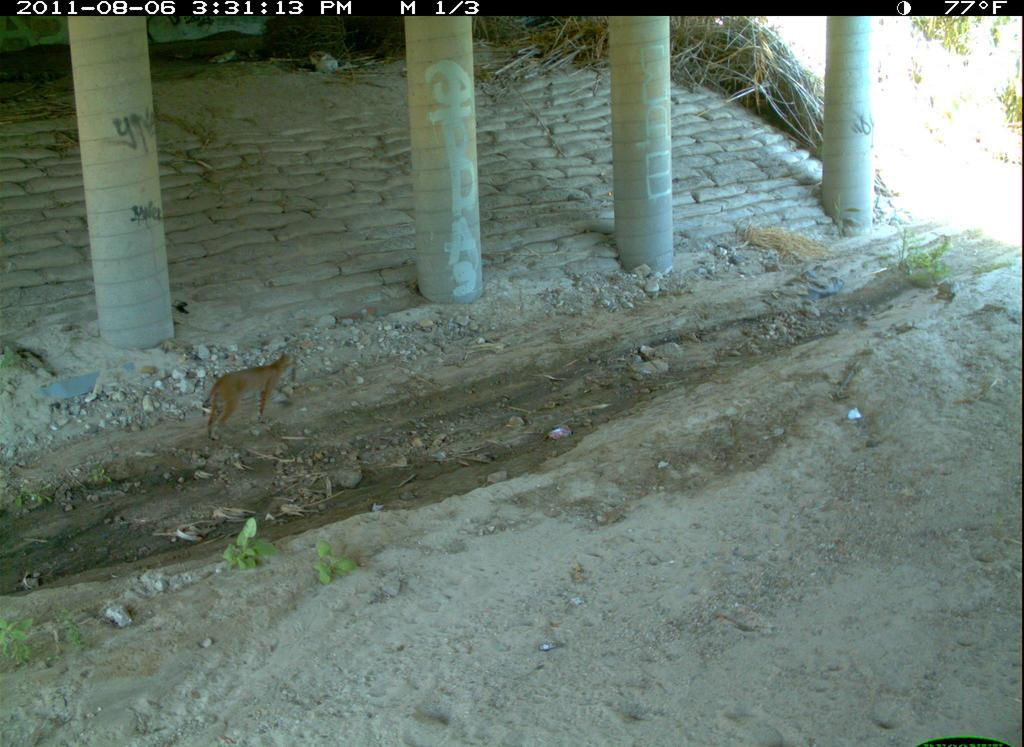bobcat: (395, 689, 611, 747)
